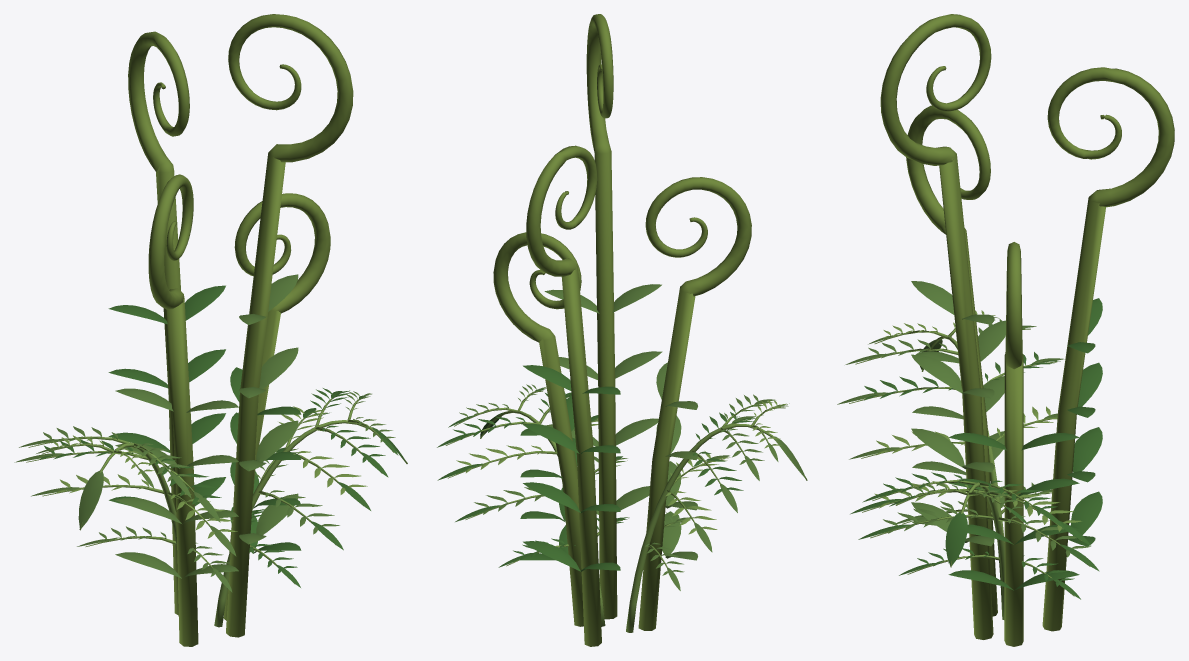
The model's file is meadow_fern_fiddleheads.hi.glb.
3 views of the same model, side by side, from view 1: azimuth 30°, elevation 25°; view 2: azimuth 150°, elevation 25°; view 3: azimuth 270°, elevation 25° (orthographic). The views are drawn at different scales.
Parts seen in each view (by area): view 1: body; view 2: body; view 3: body.
Part boxes in pixels (box(x1,y1,x2,y2)): body: box(14, 14, 407, 646); body: box(437, 14, 807, 646); body: box(837, 14, 1174, 646).
Size of the model in its own units: 0.2659 by 0.4572 by 0.2214.
